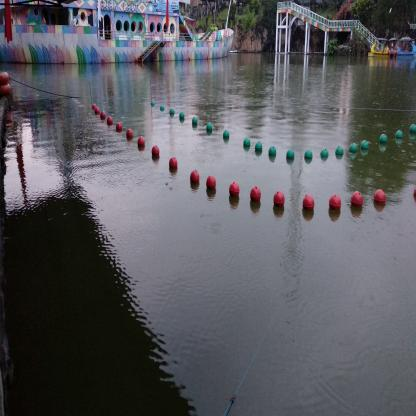green_buoy: (320, 146, 328, 160), (286, 148, 294, 162), (304, 148, 313, 160), (349, 142, 357, 155), (380, 132, 387, 146), (395, 130, 403, 142), (269, 146, 276, 159), (335, 146, 344, 156), (409, 124, 416, 136), (361, 140, 368, 152), (255, 142, 262, 154), (222, 130, 230, 140), (244, 136, 250, 149), (192, 116, 198, 127), (207, 123, 212, 134), (179, 112, 184, 120), (170, 108, 174, 115), (151, 101, 155, 106), (160, 106, 164, 110)
red_buoy: (329, 193, 341, 212), (302, 194, 314, 213), (374, 189, 386, 207), (273, 192, 285, 209), (250, 186, 261, 204), (350, 192, 363, 207), (229, 181, 240, 198), (206, 176, 216, 190), (190, 170, 199, 184), (169, 157, 177, 172), (152, 146, 160, 159), (137, 136, 145, 148), (107, 116, 113, 126), (116, 122, 122, 132), (127, 128, 132, 140), (100, 112, 106, 119), (95, 108, 100, 115), (92, 104, 96, 109)
